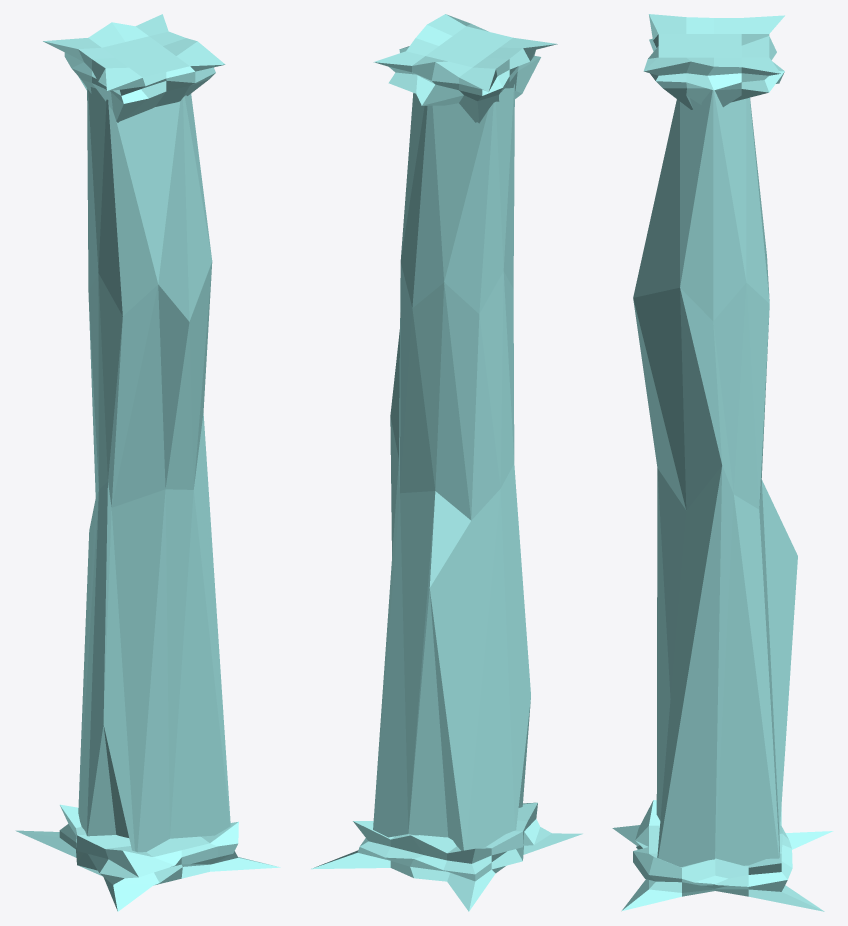
File: ice_pillar.glb
3 views of the same model, side by side, from view 1: azimuth 30°, elevation 25°; view 2: azimuth 150°, elevation 25°; view 3: azimuth 270°, elevation 25° (orthographic). The views are drawn at different scales.
Visible parts, largest first — view 1: Cube; view 2: Cube; view 3: Cube.
Boxes of the visible parts, box(x1,y1,x2,y2) form: Cube: box(15, 14, 280, 911); Cube: box(311, 14, 582, 911); Cube: box(612, 14, 833, 911).
Size of the model in its own units: 2.99 by 13.75 by 3.34.
Materials: 1 (1 with a texture image).
